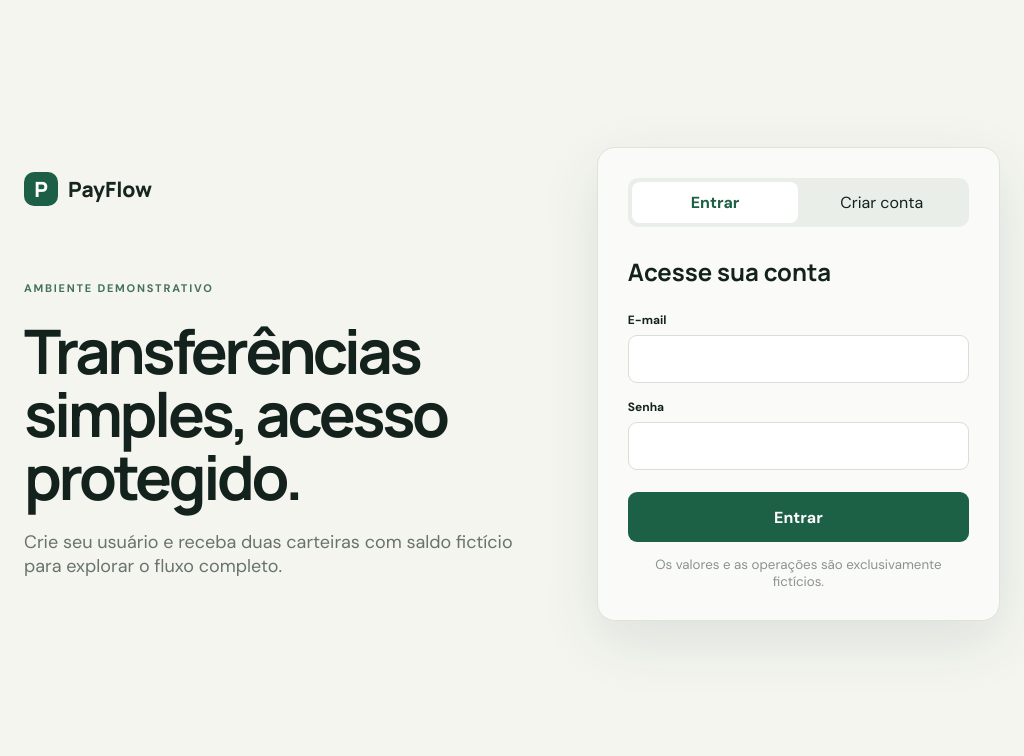
Test case: PayFlow dashboard › shows a reversal error and reuses the idempotency key on retry
Type "user@example.com" into the field labelled "E-mail".
click(798, 359); type("user@example.com")  # box [628,335,969,383]
Type "safe-password" into the password field labelled "Senha".
click(798, 446); type("safe-password")  # box [628,422,969,470]
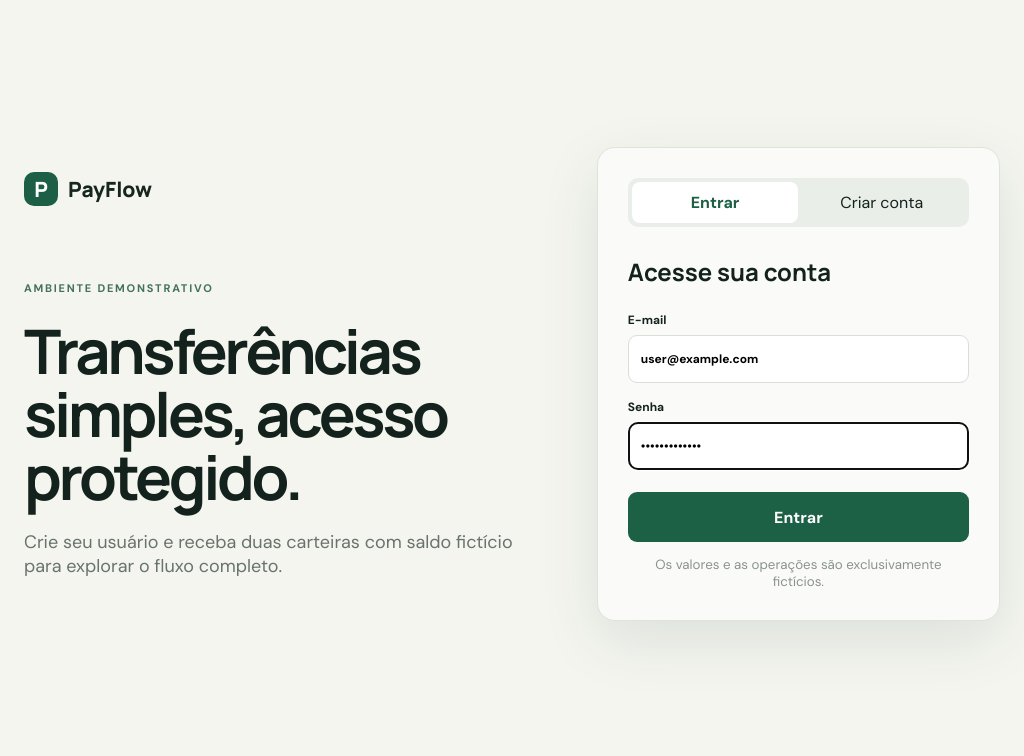
Click the button "Entrar".
click(798, 517)  # box [628,492,969,542]
(page scrolled)
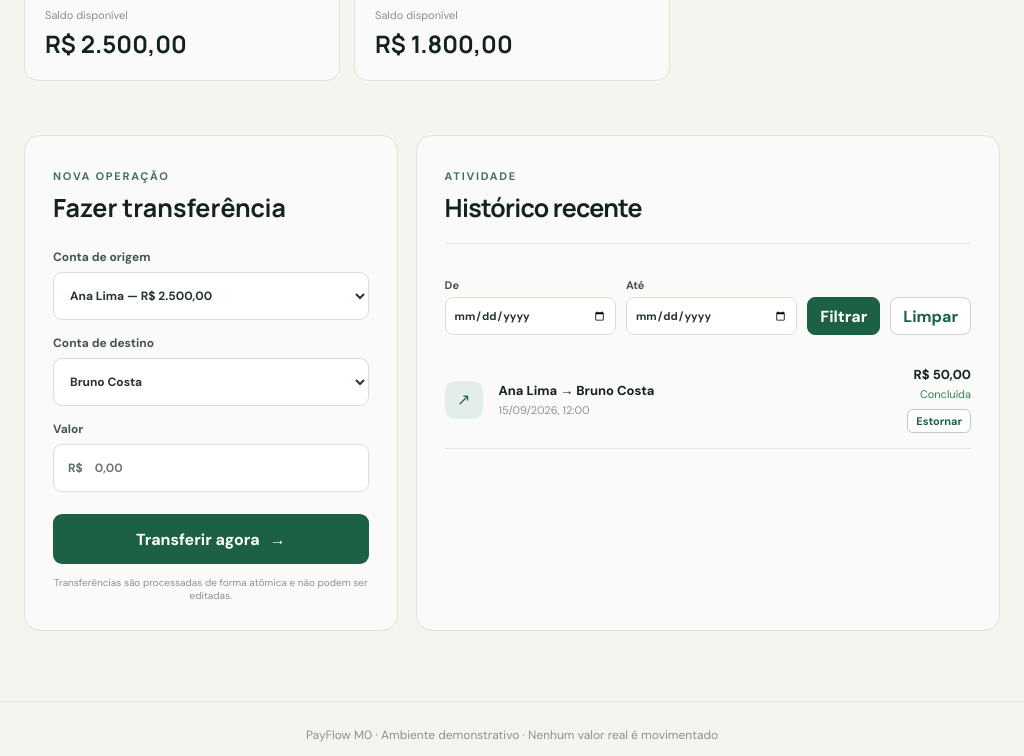
expect the text "Ana Lima → Bruno Costa" is shown: met, box [499,382,654,400]
Click the button "Estornar".
click(939, 422)  # box [907,410,971,434]
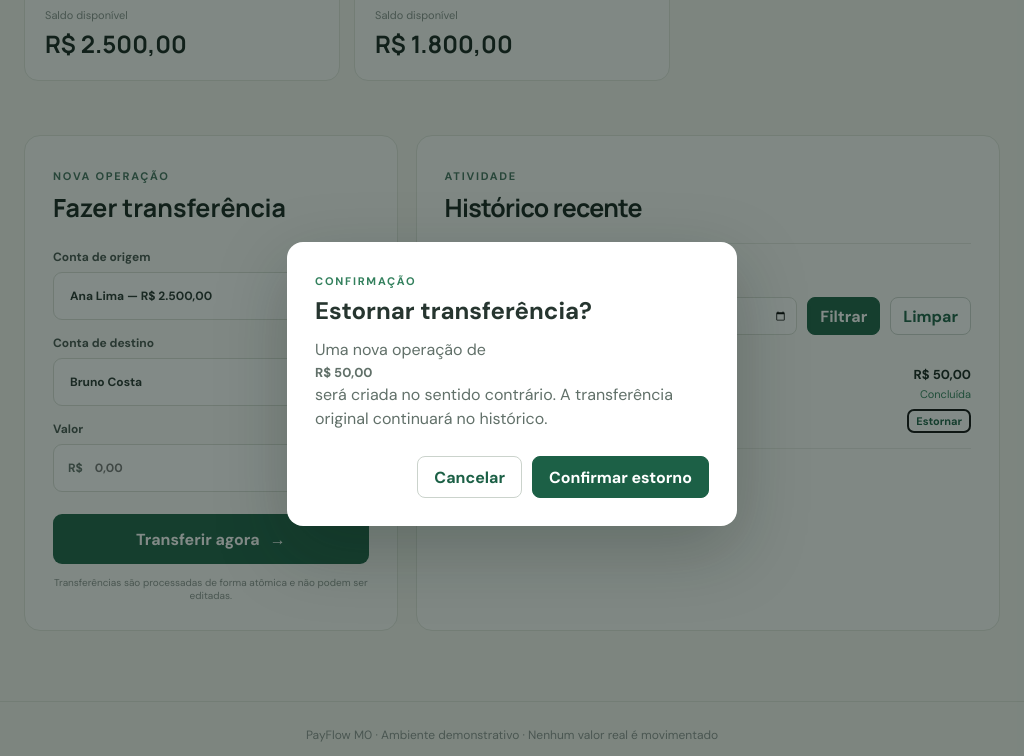
Click the button "Confirmar estorno".
click(620, 477)  # box [532,456,709,498]
(page scrolled)
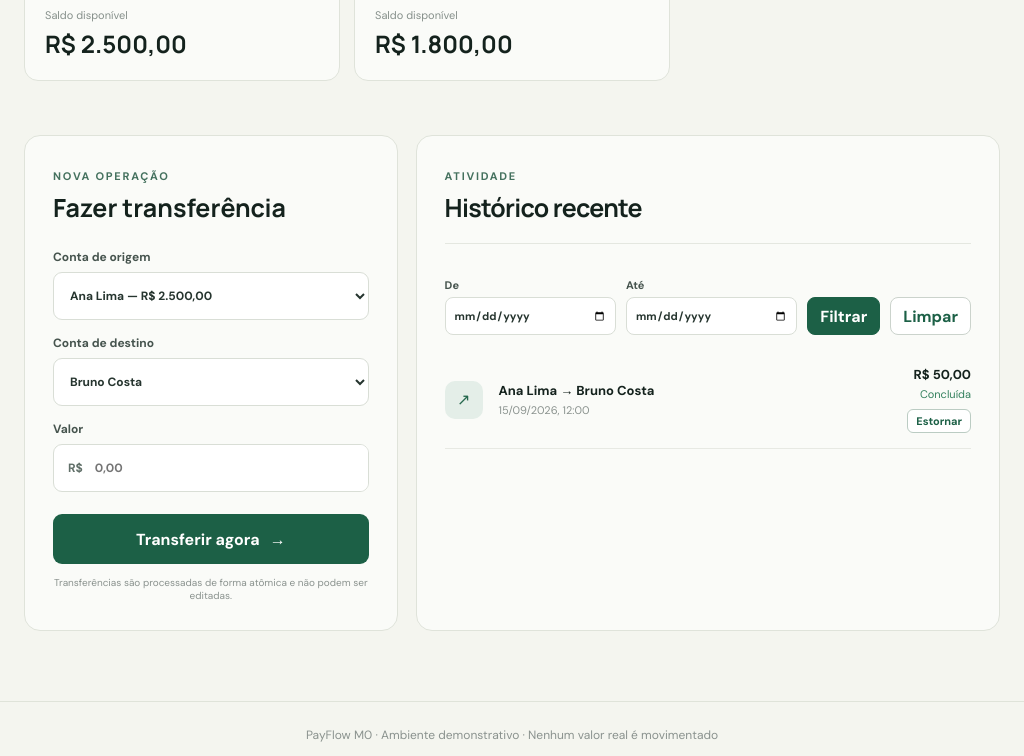
expect the dialog is gone: met
Click the button "Estornar".
click(939, 422)  # box [907,410,971,434]
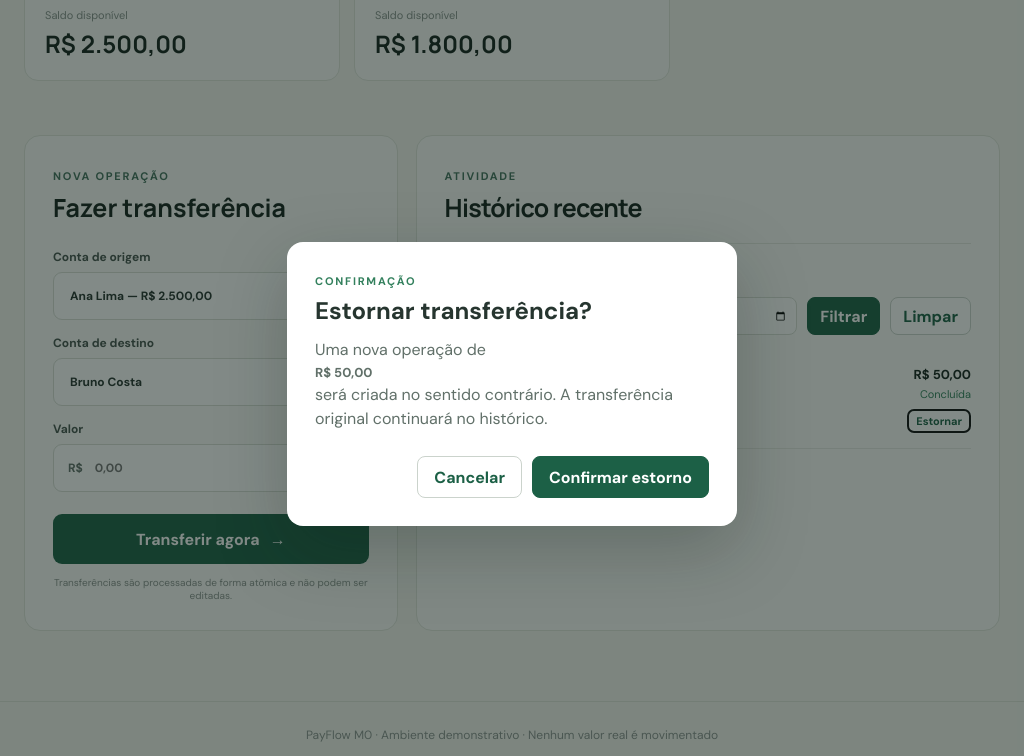
Click the button "Confirmar estorno".
click(620, 477)  # box [532,456,709,498]
(page scrolled)
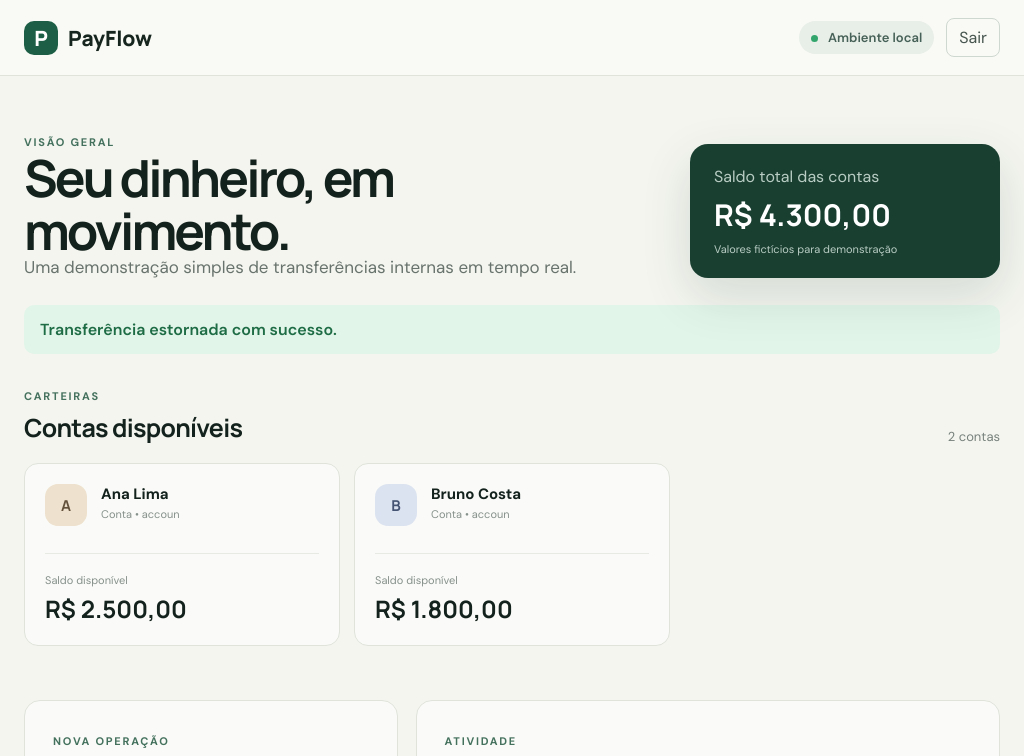
expect the message reads "Transferência estornada com sucesso.": met, box [40,320,337,340]
